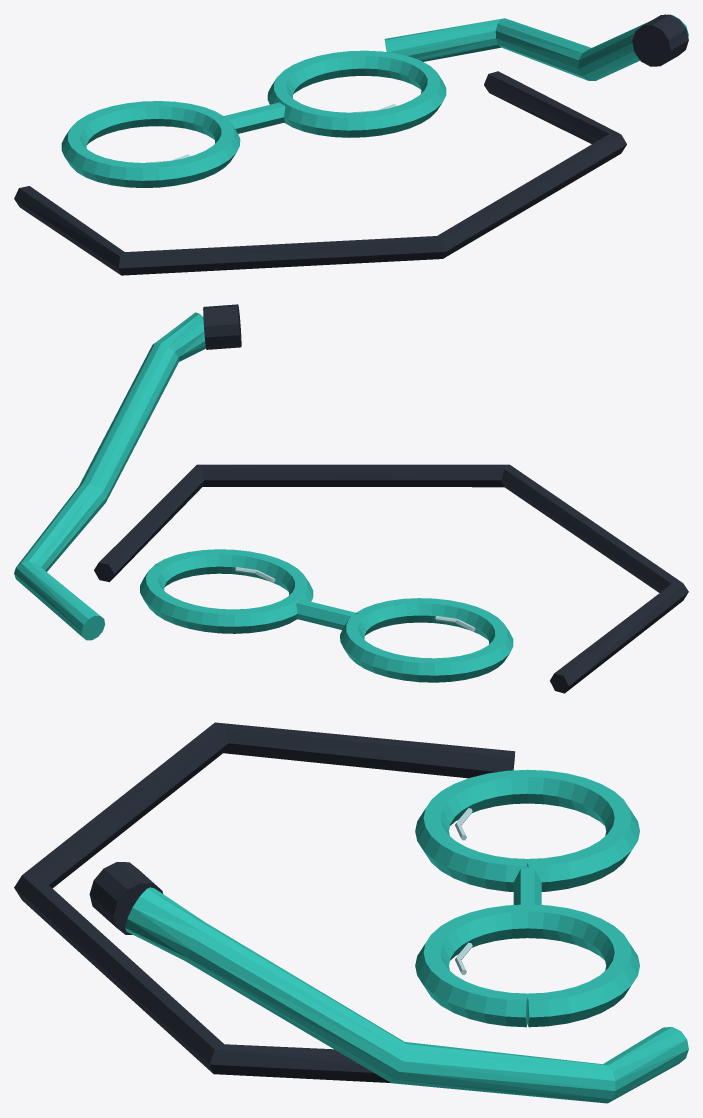
Rendered from diving_mask.fbx.
The picture shows the model from 3 angles, top to bottom: view 1: azimuth 30°, elevation 25°; view 2: azimuth 150°, elevation 25°; view 3: azimuth 270°, elevation 25°; orthographic projection. The views are drawn at different scales.
Visible parts, largest first — view 1: diving_mask_armor; view 2: diving_mask_armor; view 3: diving_mask_armor.
Boxes of the visible parts, x1,y1,x2,y2 form: diving_mask_armor: [14, 14, 688, 275]; diving_mask_armor: [14, 304, 688, 693]; diving_mask_armor: [14, 722, 688, 1103].
Bounding box in the file's own units: 4.33 × 1.33 × 3.39.
Materials: 1 (1 with a texture image).
